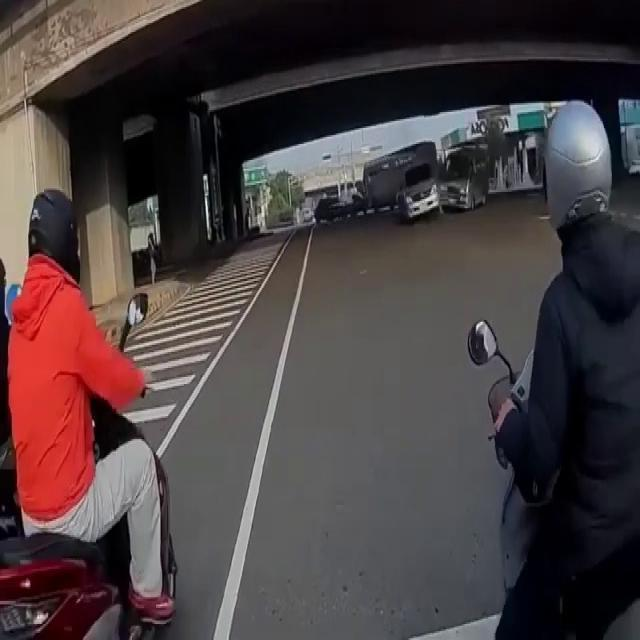accident: (397, 150, 495, 226)
